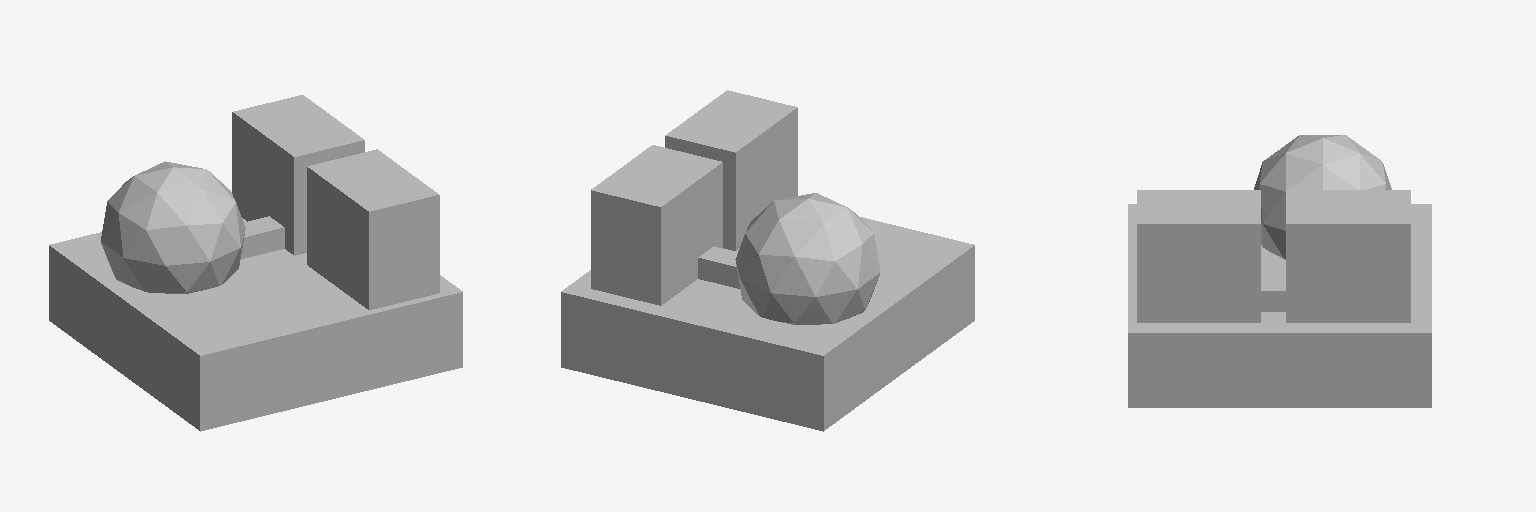
File: storage.obj
3 renders of one model, left to right at view 1: azimuth 30°, elevation 25°; view 2: azimuth 150°, elevation 25°; view 3: azimuth 270°, elevation 25°, orthographic.
Visible parts, largest first — view 1: Plane; view 2: Plane; view 3: Plane.
Part boxes in pixels (x1,y1,x2,y2): Plane: (49, 95, 462, 431); Plane: (561, 90, 974, 431); Plane: (1128, 135, 1431, 407).
Size of the model in its own units: 2 by 1.28 by 2.